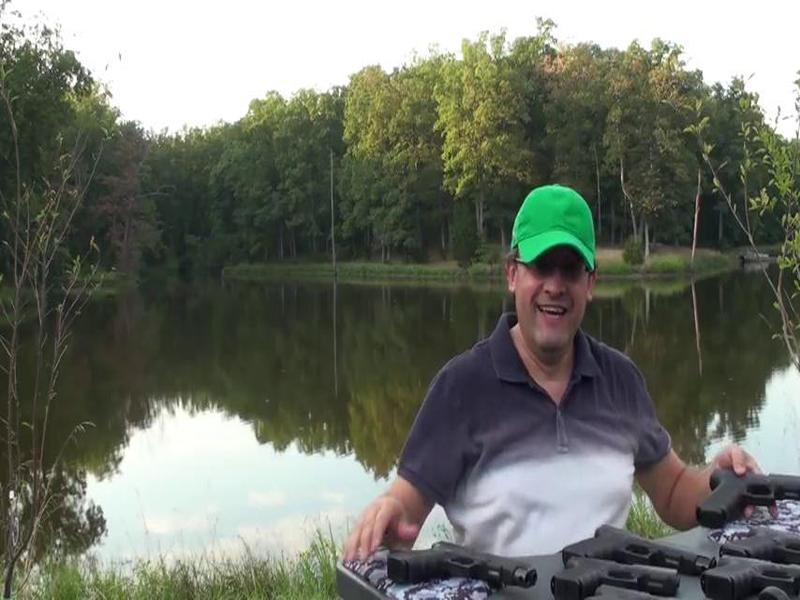Pistola: (361, 519, 544, 599), (545, 545, 679, 600), (695, 463, 800, 525)
